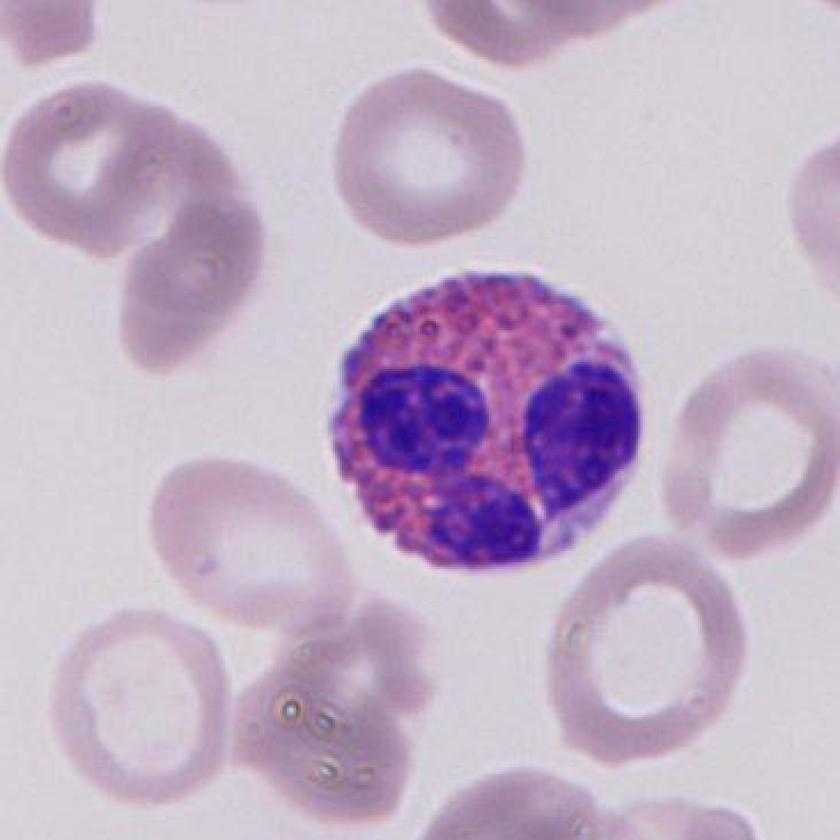eosinophil: (318, 260, 660, 584)
